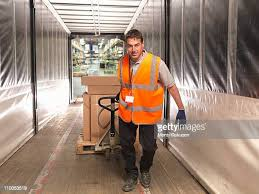Pallet Jack: (76, 88, 140, 157)
